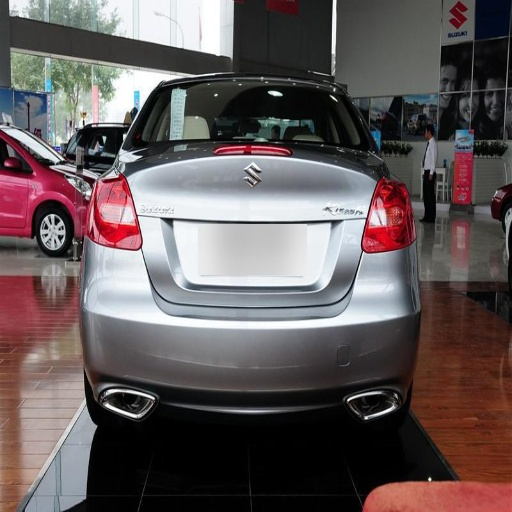back_bumper: (84, 243, 422, 424)
tailgate: (123, 146, 373, 305)
